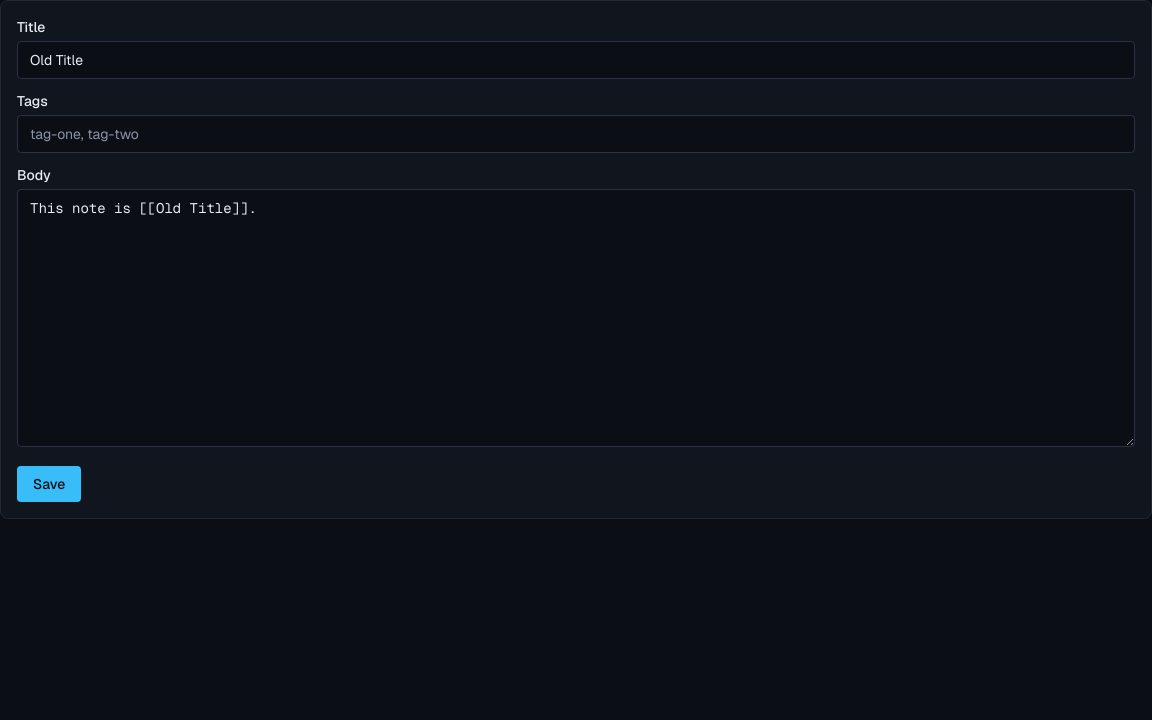
NodeEditor › offers to reload when the note changed on disk
Click the button "Save" at (49, 484), box 17,466 -> 81,502
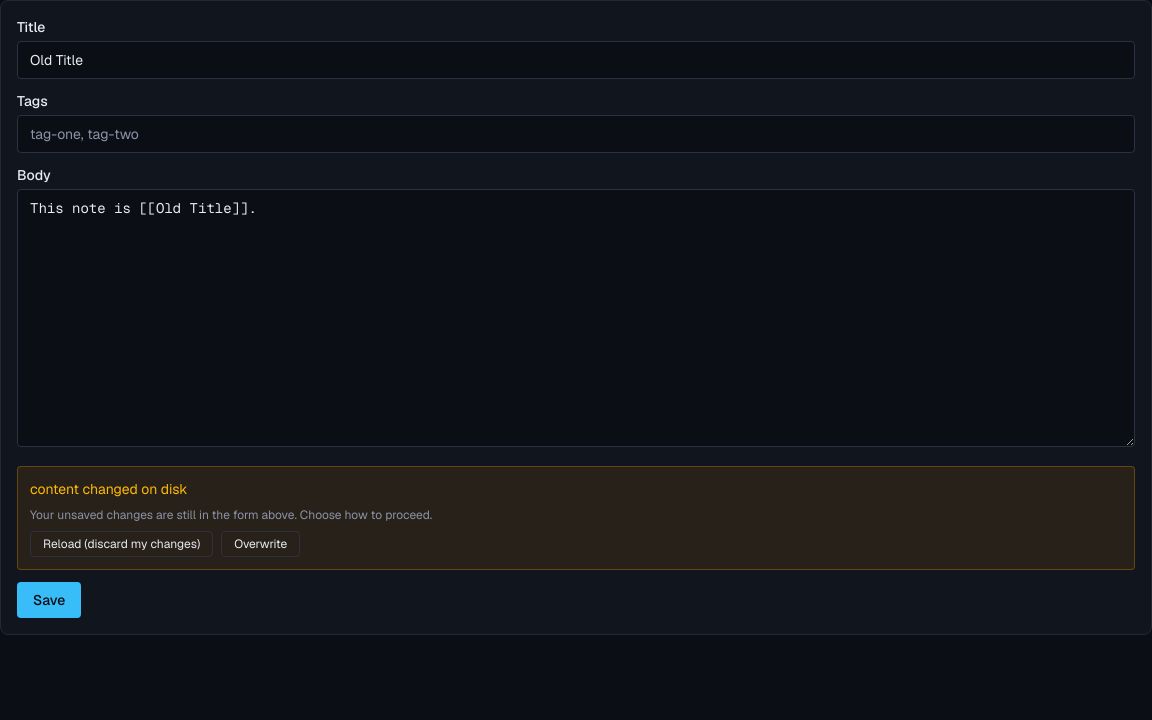
Now the text "content changed on disk" is shown, box 30,480 -> 188,498
Now the button "Reload (discard my changes)" is enabled, box 30,531 -> 213,557
